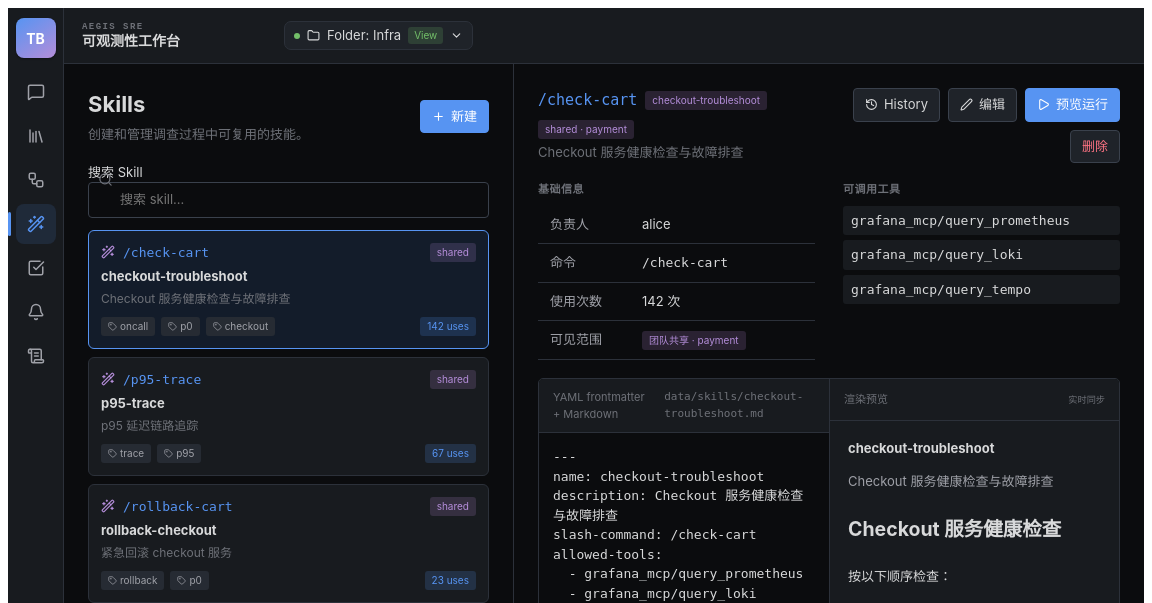
Test: SkillsPage › runs a read-only skill and reopens the persisted result
Expected: the text "/check-cart" below "搜索 Skill" is shown, [123,244,209,260]
What coordinates should you click on to do the following:
click the button "预览运行"
I would click on:
 (1072, 105)
Its box is [1025,88,1120,122].
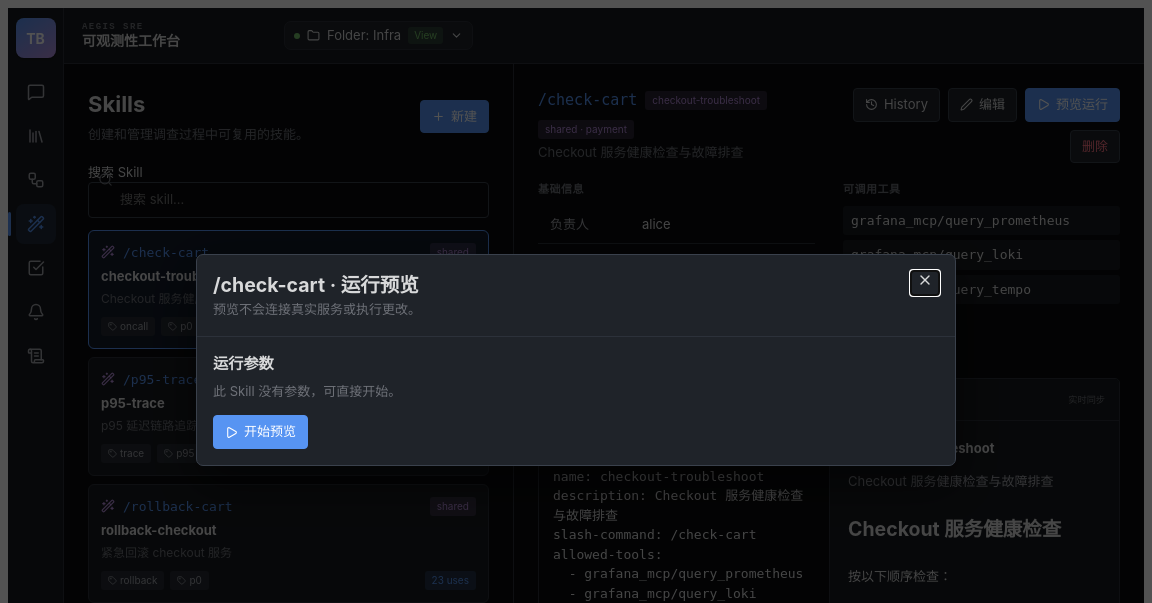
What coordinates should you click on to do the following:
click the button "开始预览"
I would click on:
 (260, 432)
Its box is [213,415,308,449].
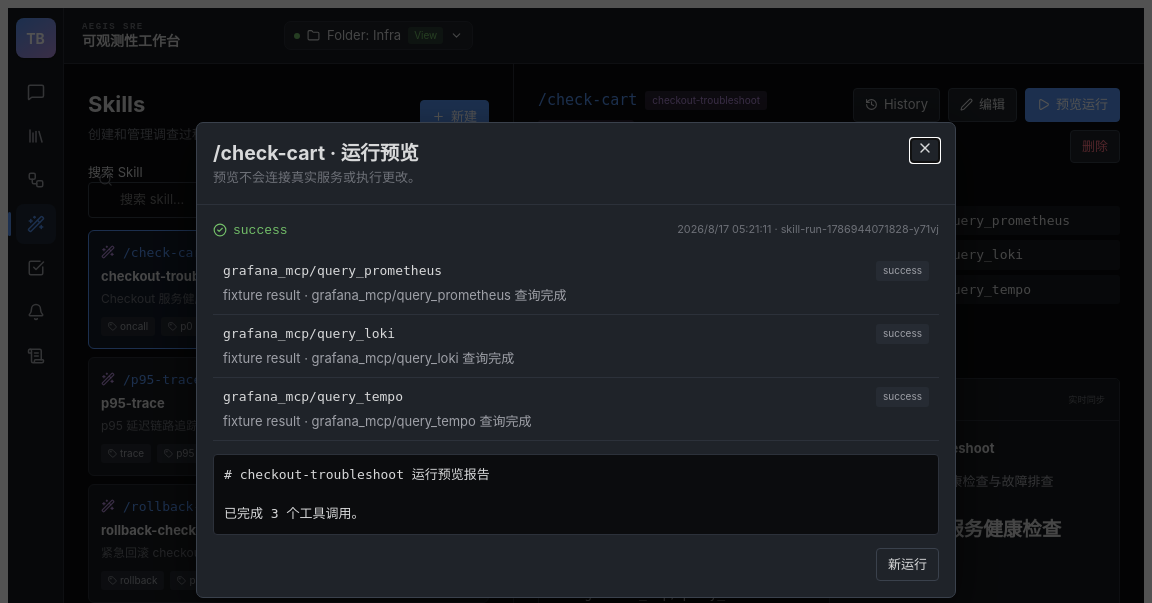
Result: the text "success" is shown at [213,221,288,240]
Result: the text "# checkout-troubleshoot 运行预览报告 已完成 3 个工具调用。" is shown at [213,454,939,535]
What coordinates should you click on to do the following:
click the button named "关闭运行"
I would click on:
 (925, 151)
Its box is [911,139,939,162].
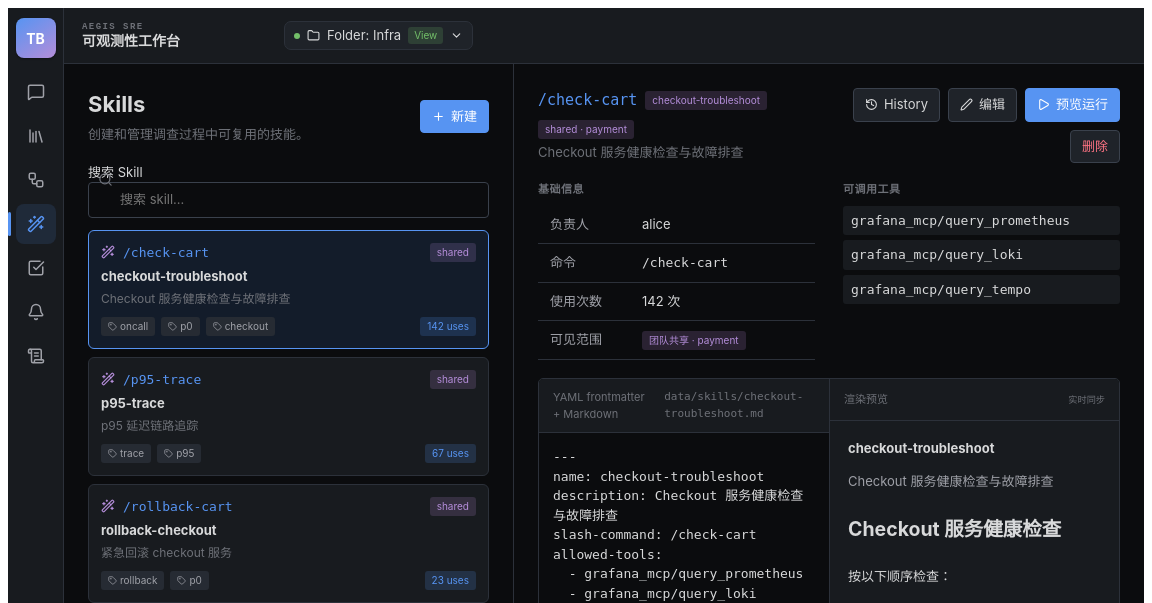
What coordinates should you click on to do the following:
click the button "预览运行"
I would click on:
 (1072, 105)
Its box is [1025,88,1120,122].
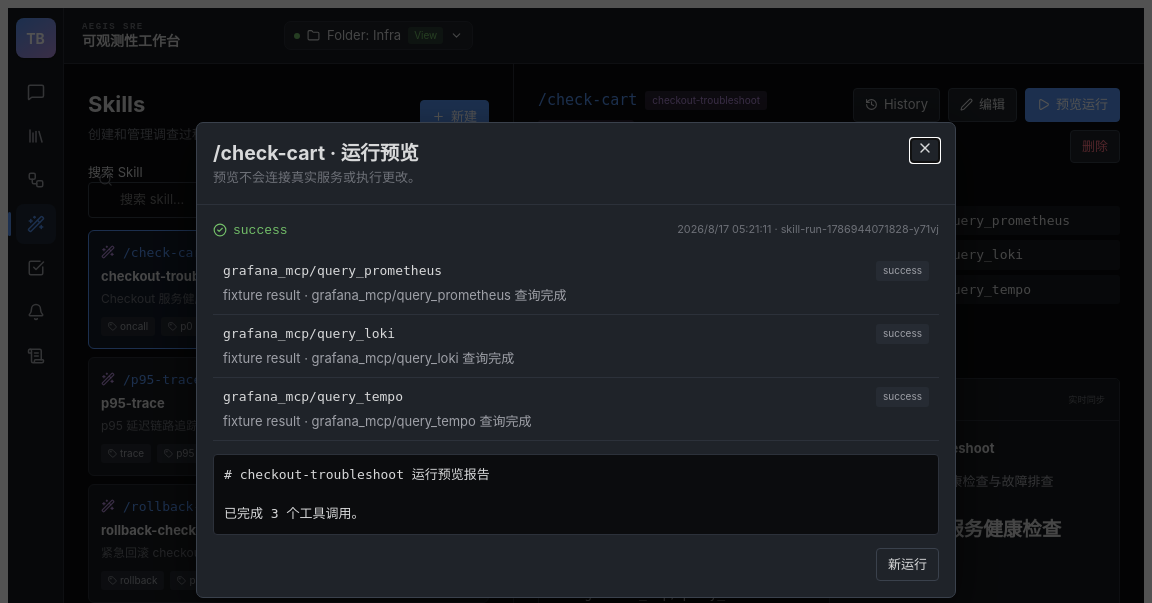
Result: the element named "Skill 执行结果" shows "success" at [233,223,288,238]
